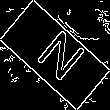N_SW: (25, 23, 85, 87)
